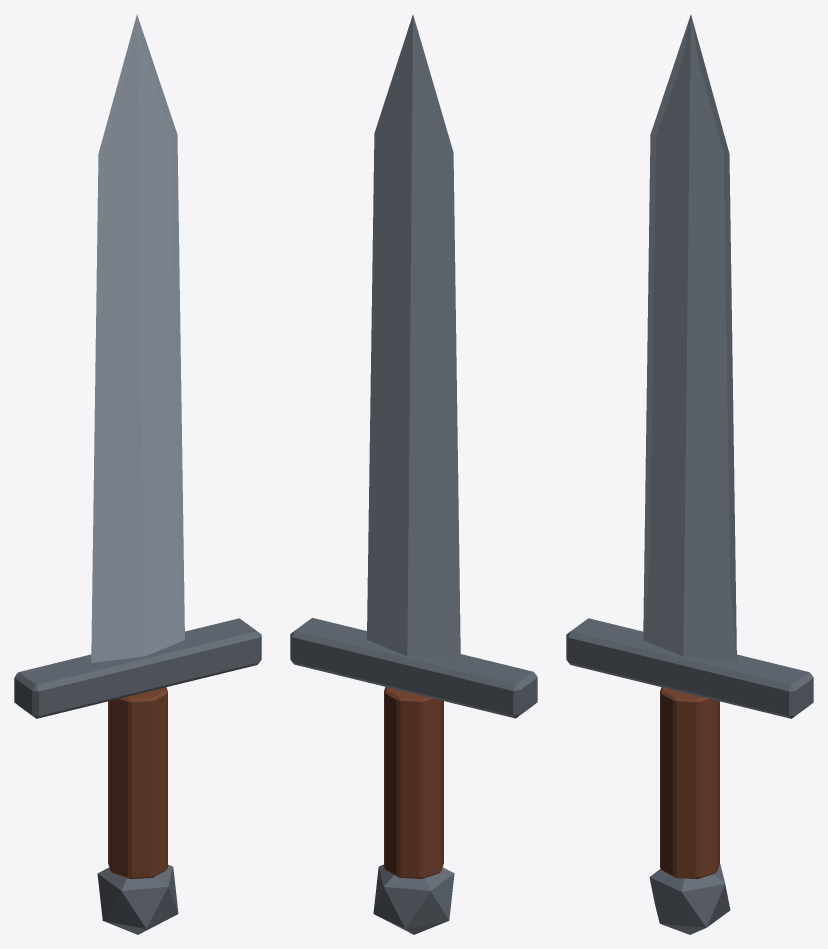
Rendered from sword_3_ai.glb.
The picture shows the model from 3 angles, left to right: view 1: azimuth 30°, elevation 25°; view 2: azimuth 150°, elevation 25°; view 3: azimuth 330°, elevation 25°; orthographic projection.
Parts seen in each view (by area): view 1: Sword_Blade, Sword_Guard, Sword_Grip, Sword_Pommel; view 2: Sword_Blade, Sword_Guard, Sword_Grip, Sword_Pommel; view 3: Sword_Blade, Sword_Guard, Sword_Grip, Sword_Pommel.
Part boxes in pixels (<box>): Sword_Blade: <box>91,14,184,662</box>; Sword_Guard: <box>14,618,261,718</box>; Sword_Grip: <box>108,687,167,879</box>; Sword_Pommel: <box>97,864,178,934</box>; Sword_Blade: <box>367,14,460,662</box>; Sword_Guard: <box>290,618,537,718</box>; Sword_Grip: <box>384,687,443,878</box>; Sword_Pommel: <box>373,864,454,934</box>; Sword_Blade: <box>643,14,736,662</box>; Sword_Guard: <box>566,618,813,718</box>; Sword_Grip: <box>660,687,719,879</box>; Sword_Pommel: <box>649,864,730,934</box>.
Bounding box in the file's own units: 0.32 × 1.23 × 0.0936.
